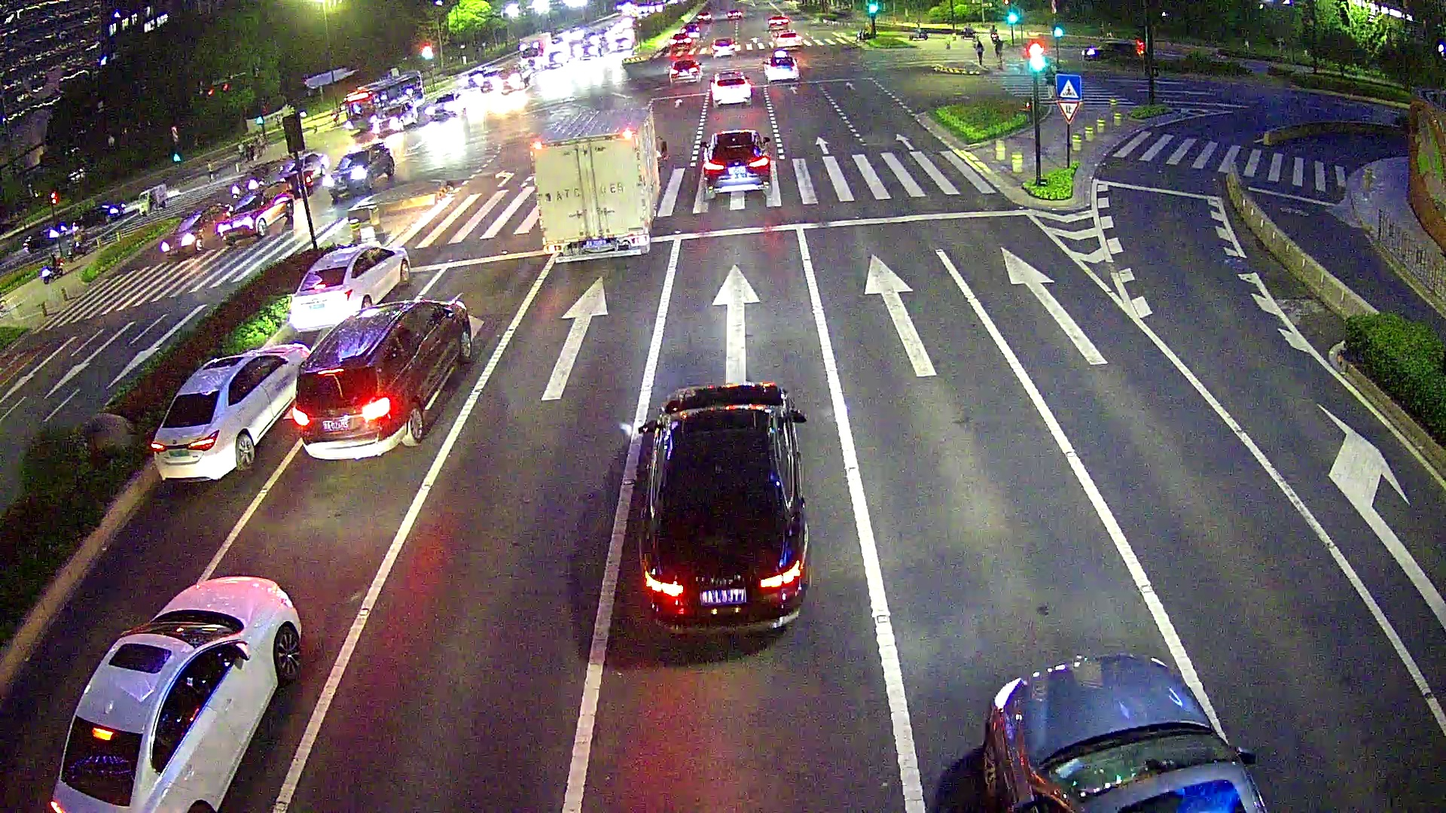vehicle: (43, 572, 305, 811), (633, 380, 810, 637), (291, 296, 474, 461), (147, 340, 313, 486), (525, 105, 669, 265), (285, 243, 411, 334), (695, 127, 774, 199), (219, 186, 300, 240), (159, 206, 227, 257), (325, 145, 395, 190)
